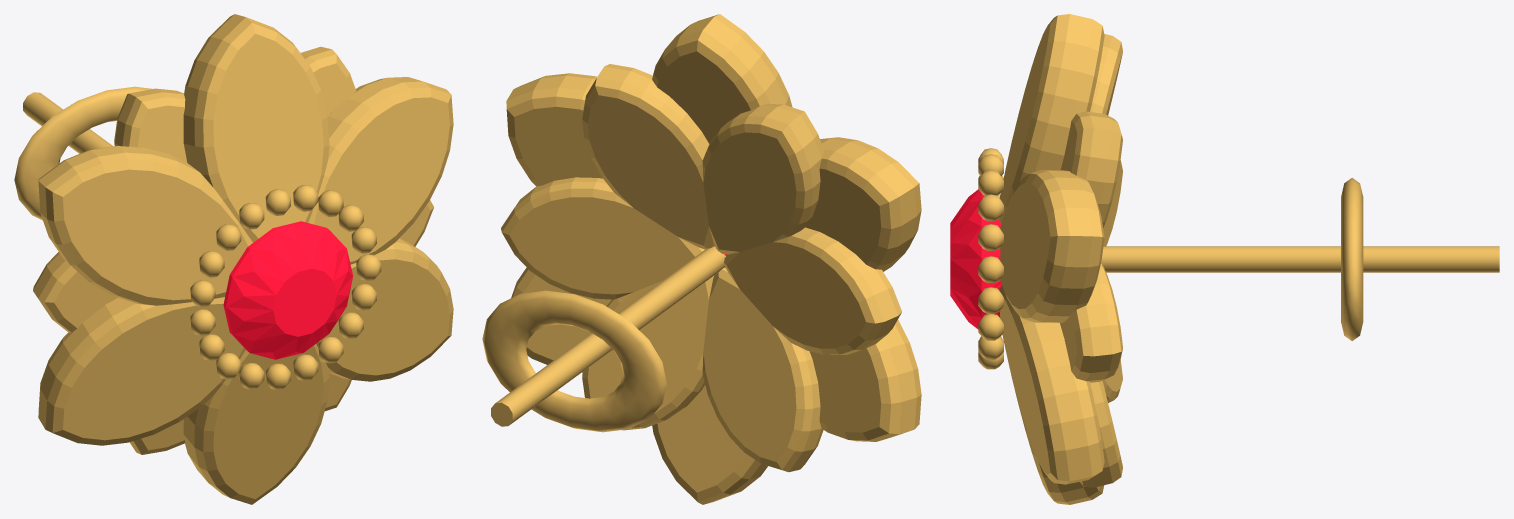
File: stud-gold-flower.glb
3 renders of one model, left to right at view 1: azimuth 30°, elevation 25°; view 2: azimuth 150°, elevation 25°; view 3: azimuth 270°, elevation 25°, orthographic.
Parts seen in each view (by area): view 1: stud-gold-flower_gold22k, stud-gold-flower_ruby; view 2: stud-gold-flower_gold22k; view 3: stud-gold-flower_gold22k, stud-gold-flower_ruby.
Part boxes in pixels (<box>): stud-gold-flower_gold22k: <box>14,14,453,504</box>; stud-gold-flower_ruby: <box>223,221,352,359</box>; stud-gold-flower_gold22k: <box>482,14,921,504</box>; stud-gold-flower_gold22k: <box>978,14,1499,504</box>; stud-gold-flower_ruby: <box>950,189,1001,329</box>.
Size of the model in its own units: 1.05 by 1.21 by 1.23.
